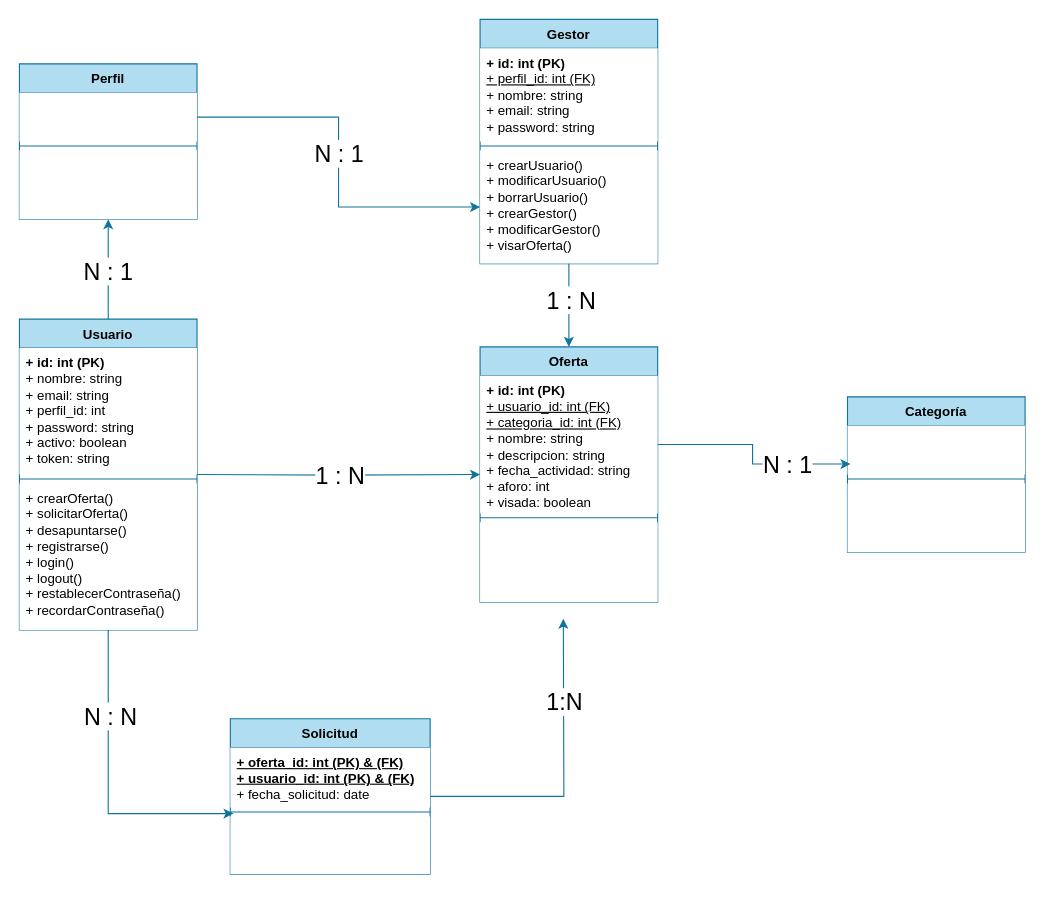
Some shapes in this 1045 by 897 pixel diagram are drawn without their labels. The centre of each missing label's shape, as x and y in pixels:
"+ asignarPerfil() + modificarPerfil() + eliminarPerfil()" belongs at point 107,184.
"+ crearCategoria() + modificarCategoria() + eliminarCategoria()" belongs at point 936,517.
"+ id: int (PK) + categoria: string" belongs at point 936,449.
"+ id: int (PK) + perfil: string" belongs at point 107,116.
"+ recibirSolicitud() + borrarOferta() + modificarOferta() + visarOferta()" belongs at point 568,562.
"+ registrarSolicitud() + eliminarSolicitud()" belongs at point 330,845.
